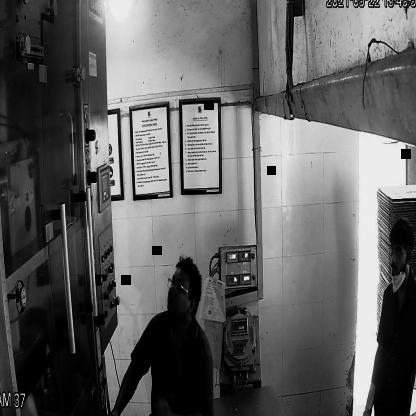goggles: (165, 275, 195, 300)
no_goggles: (386, 243, 414, 261)
